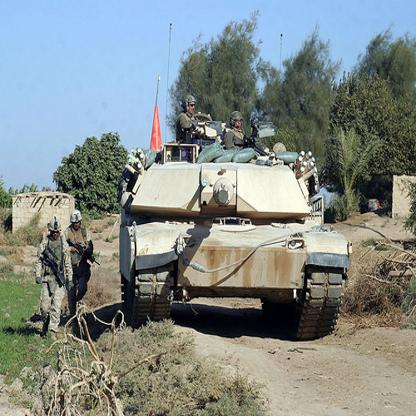Tank: (111, 114, 352, 342)
